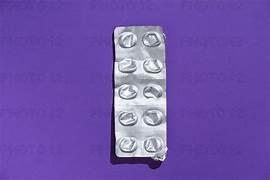pill_Strip: (114, 26, 166, 160), (118, 111, 138, 126), (143, 58, 162, 72)
